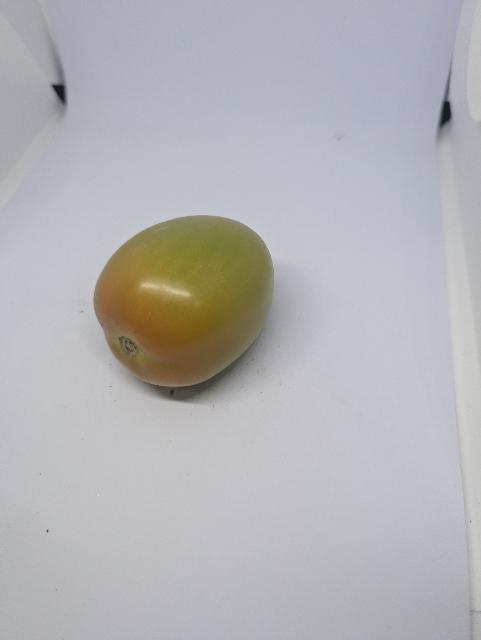breaker: (94, 216, 274, 387)
